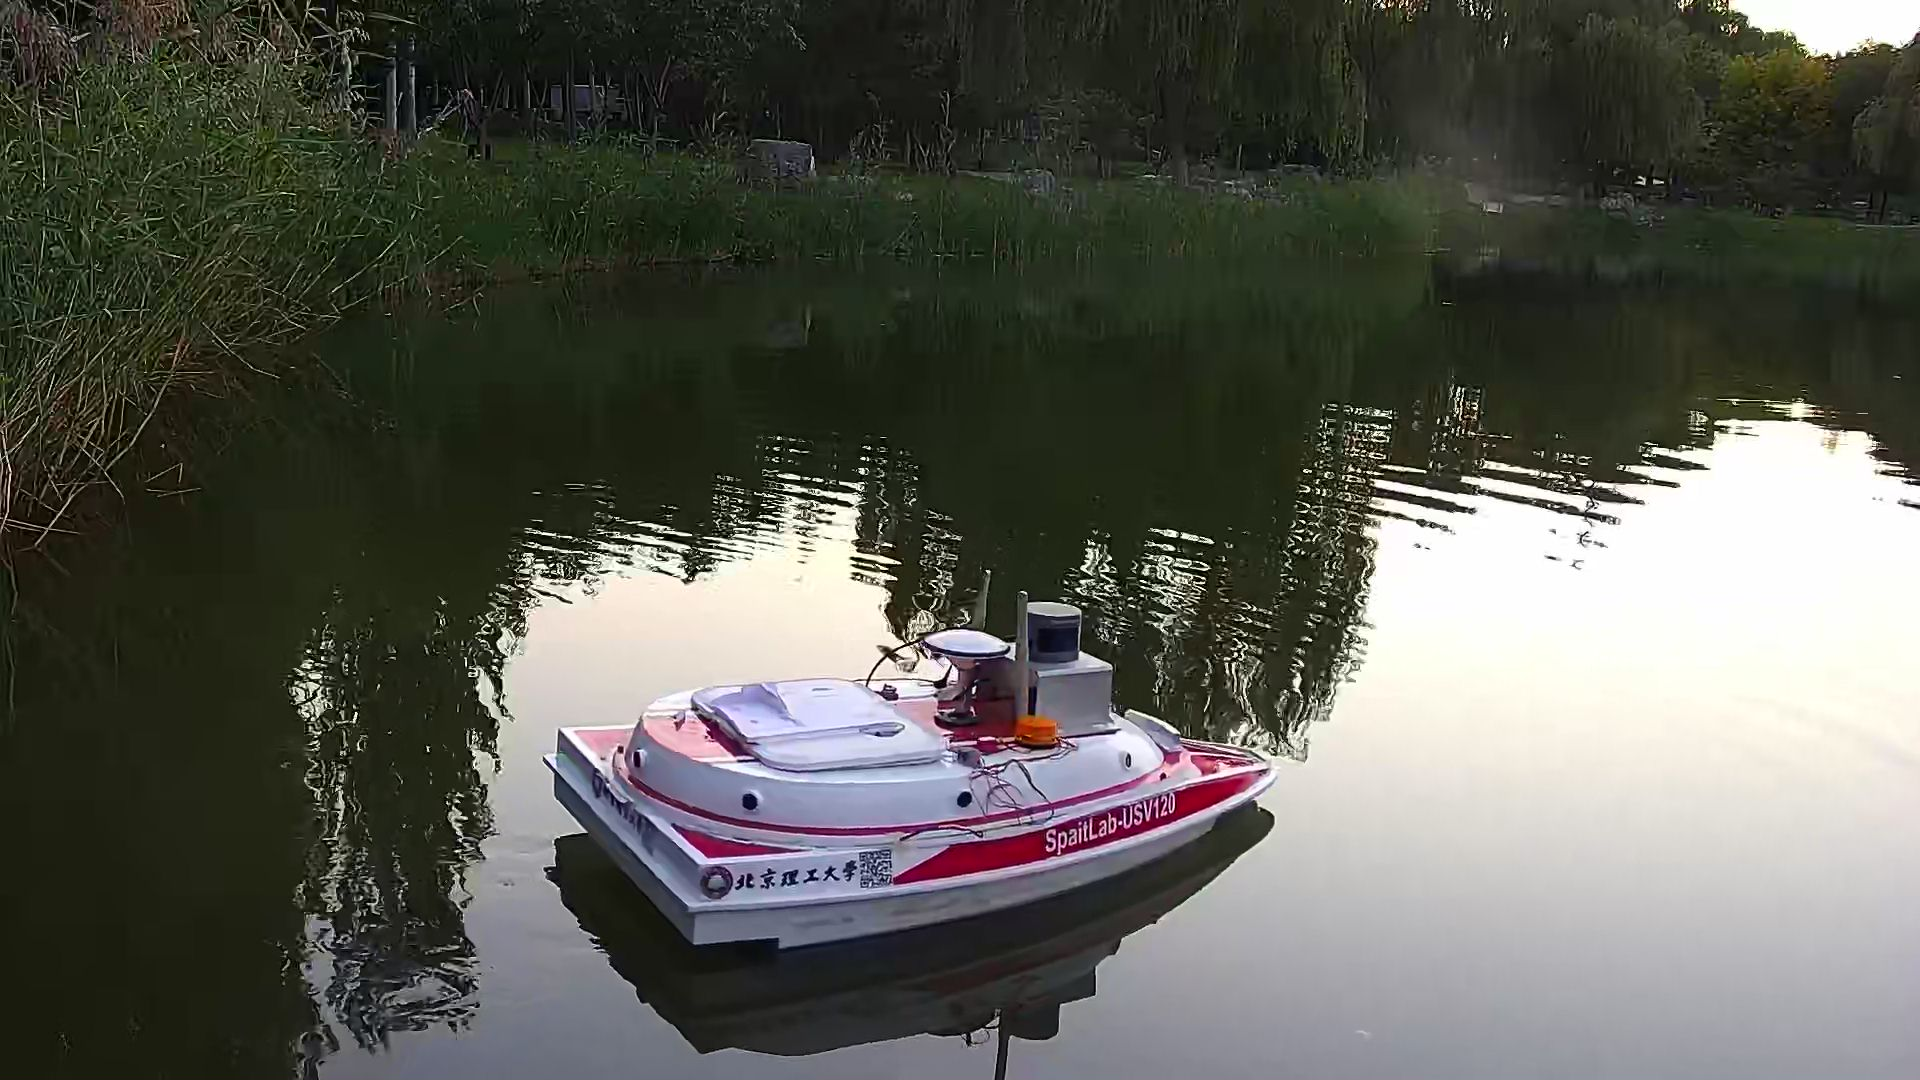boat: (537, 583, 1280, 953)
